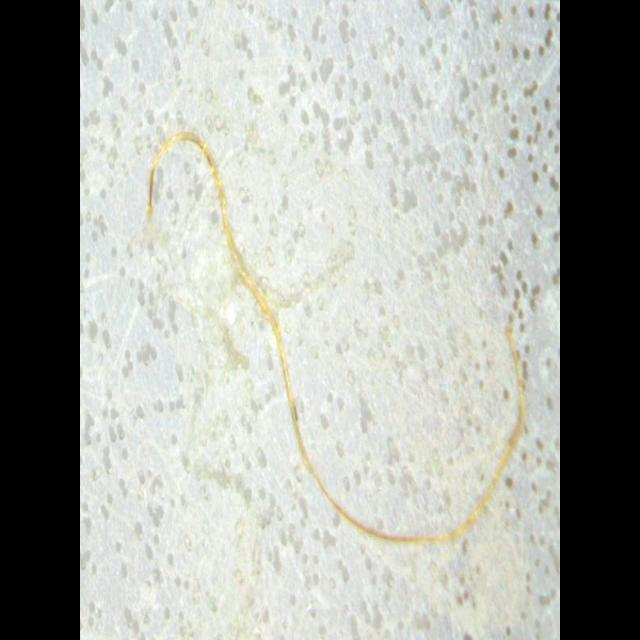Fibre: (146, 131, 526, 547)
